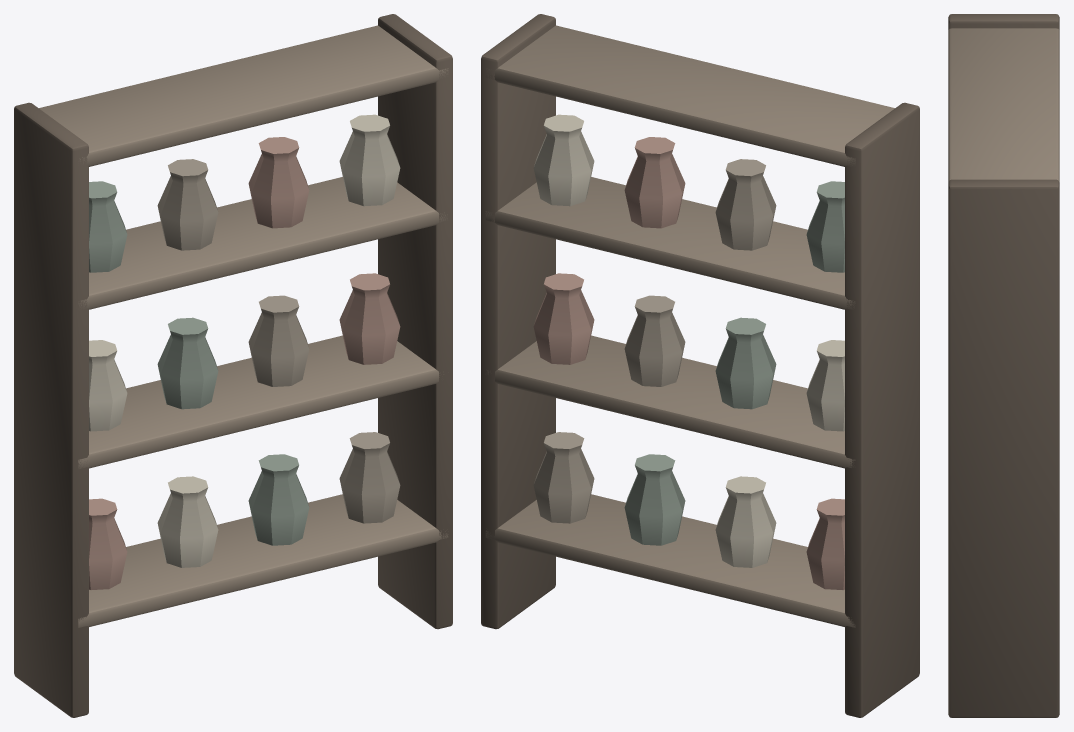
Rendered from shelf.gltf.
The picture shows the model from 3 angles, left to right: view 1: azimuth 30°, elevation 25°; view 2: azimuth 150°, elevation 25°; view 3: azimuth 270°, elevation 25°; orthographic projection. The views are drawn at different scales.
Visible parts, largest first — view 1: Body; view 2: Body; view 3: Body.
Part boxes in pixels (x1,y1,x2,y2): Body: (14, 14, 452, 717); Body: (481, 14, 919, 717); Body: (948, 14, 1059, 717).
Bounding box in the file's own units: 1.26 × 1.8 × 0.34.
